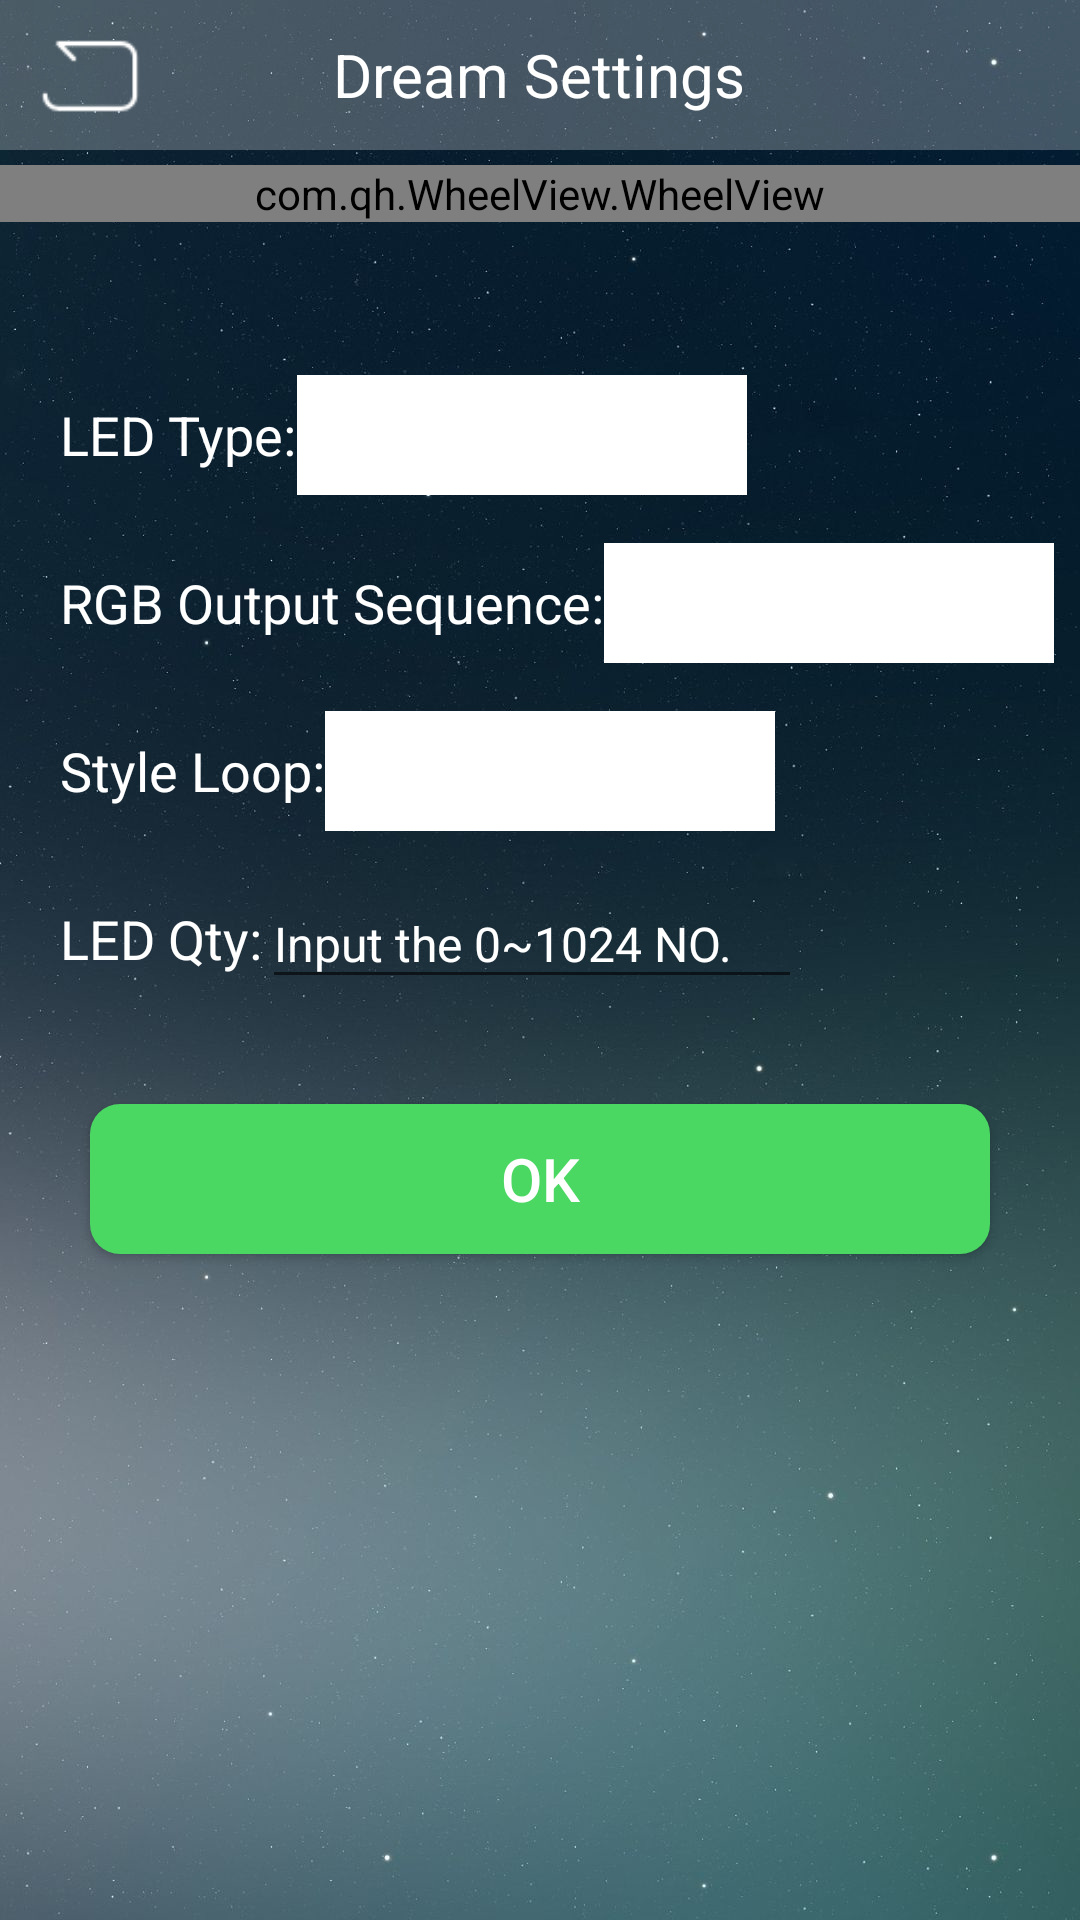

Icons on this 1080 x 1920 Android screen, each with its box as (x1, y1, x2, y2):
back: (30, 22, 144, 133)
